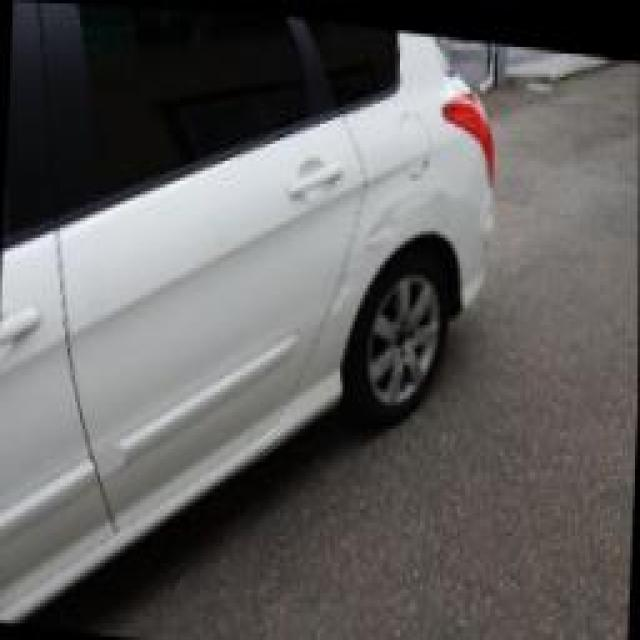Fender: (342, 147, 458, 324)
